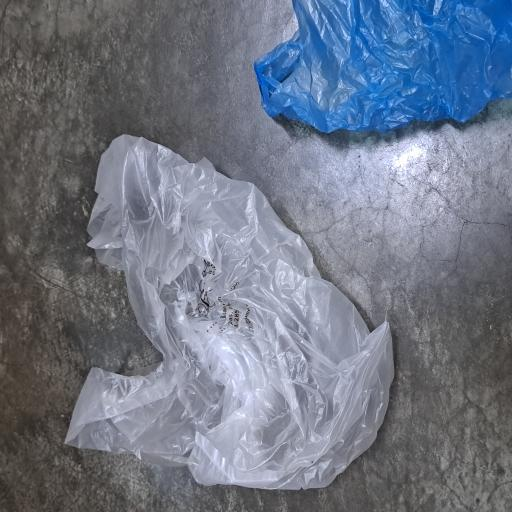plastic bag: (14, 83, 283, 512), (280, 338, 383, 512)
